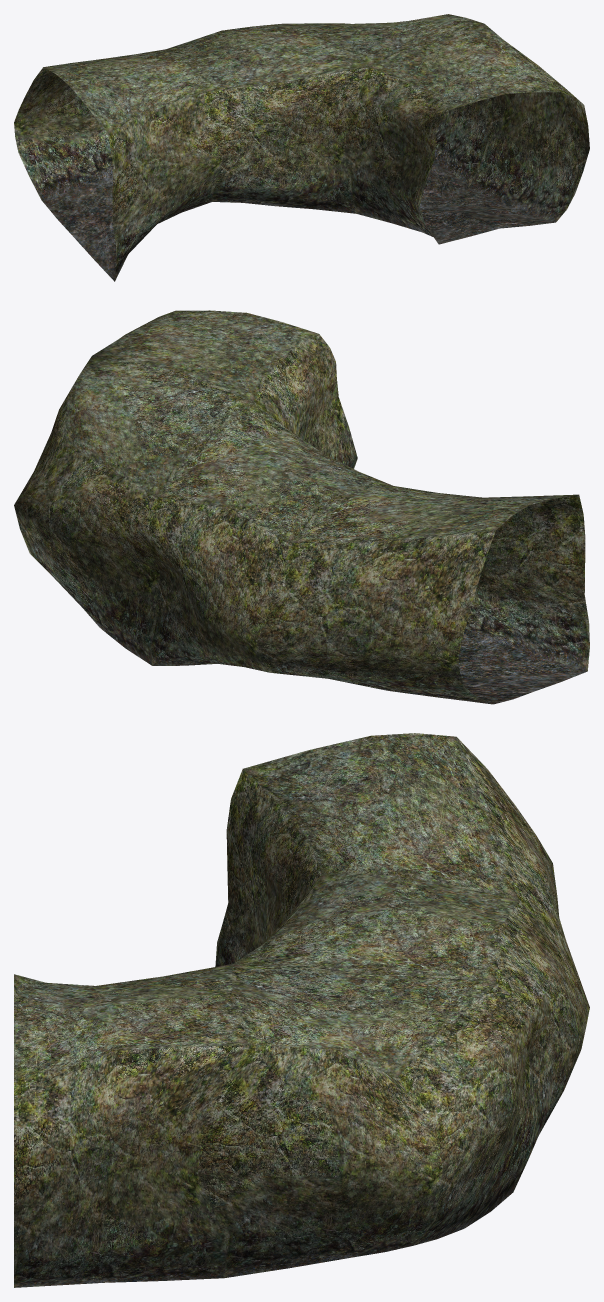
Rendered from thm_all_cave_s02_damprock_r7_mesh_r7.fbx.
The picture shows the model from 3 angles, top to bottom: view 1: azimuth 30°, elevation 25°; view 2: azimuth 150°, elevation 25°; view 3: azimuth 270°, elevation 25°; orthographic projection. The views are drawn at different scales.
Parts seen in each view (by area): view 1: mesh_node; view 2: mesh_node; view 3: mesh_node.
Boxes of the visible parts, left/top/right/bottom form: mesh_node: left=14, top=14, right=589, bottom=281; mesh_node: left=14, top=310, right=589, bottom=704; mesh_node: left=14, top=733, right=589, bottom=1287.
Bounding box in the file's own units: 30.85 × 11.75 × 22.62.
